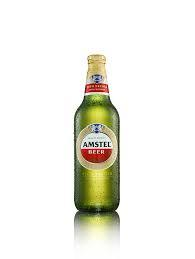Glass bottle: (61, 49, 135, 224)
